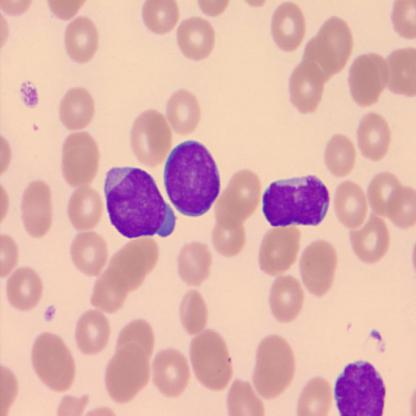Blast: (102, 164, 178, 241), (162, 138, 221, 219), (260, 172, 332, 229)
